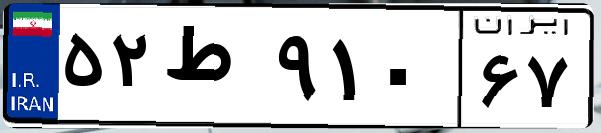0: (385, 28, 445, 110)
1: (330, 28, 385, 110)
2: (110, 28, 158, 98)
5: (57, 26, 110, 100)
6: (475, 38, 525, 113)
7: (525, 38, 570, 115)
9: (270, 28, 330, 110)
ط: (158, 20, 270, 120)
